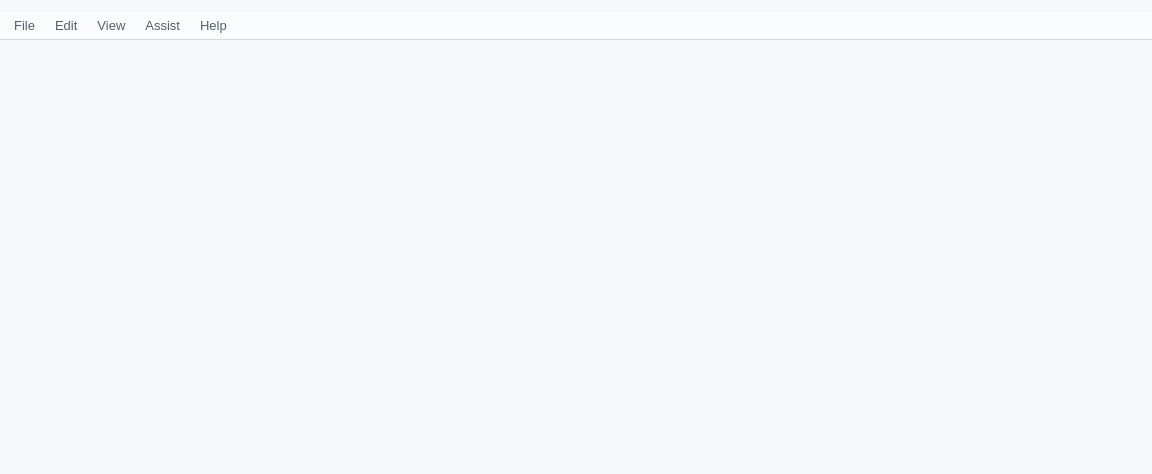
Test: ApplicationMenuBar structure (#663) › shows injected shortcut labels and disabled state
This screenshot has width=1152, height=474.
What coordinates should you click on to do the following:
click the menu item with class "applicationMenuBarItem" showing "File"
I would click on:
 (24, 26)
Its box is [4, 14, 45, 37].
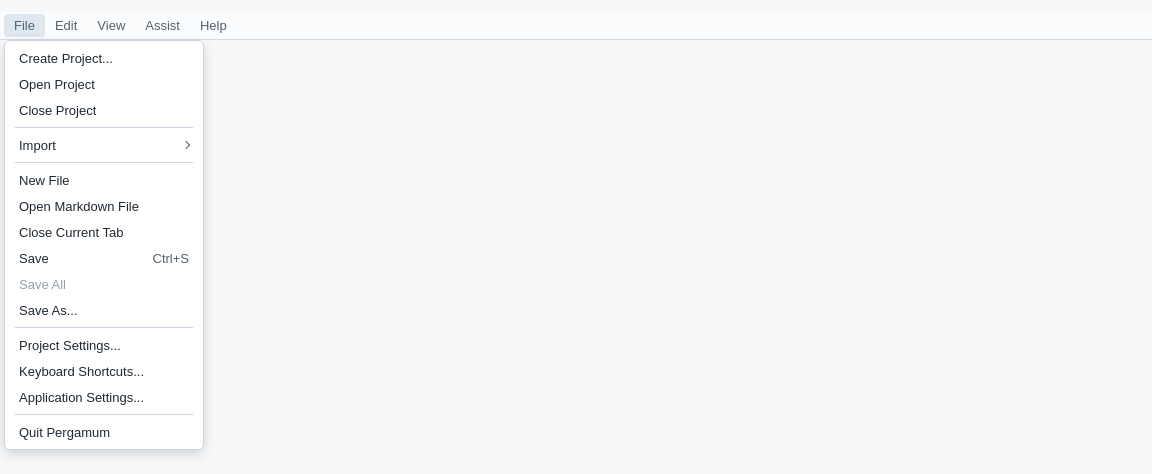
Now the text with class "applicationMenuItemShortcut" reads "Ctrl+S", box [152, 250, 189, 266]
